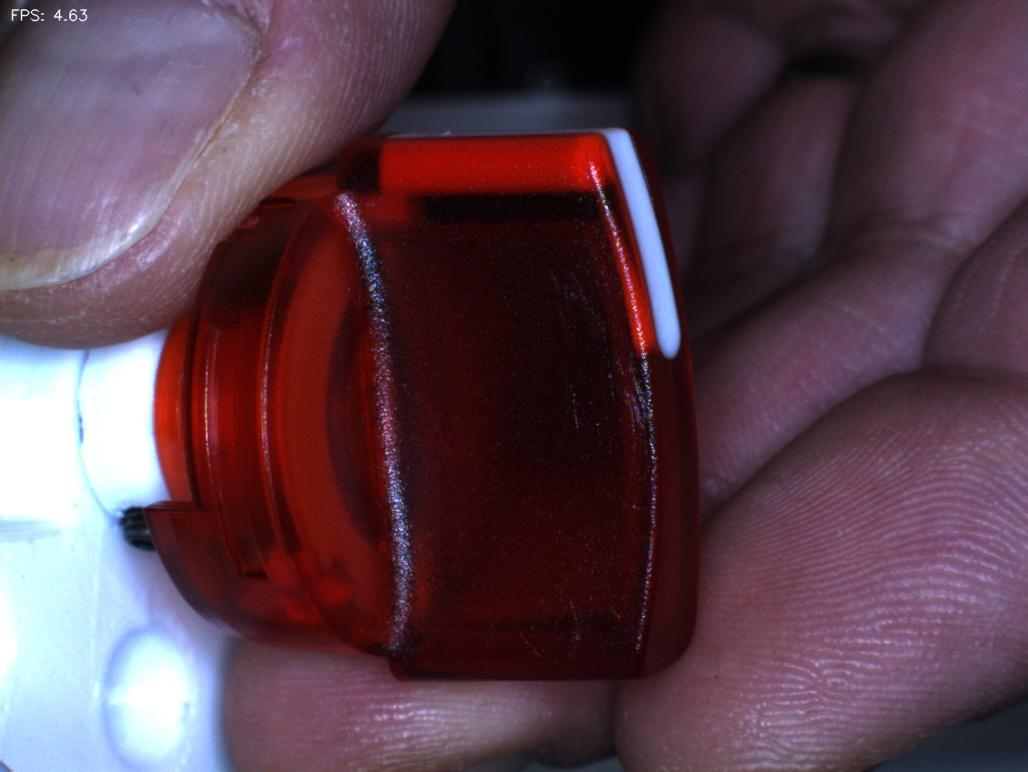Givrage: (558, 281, 647, 512)
